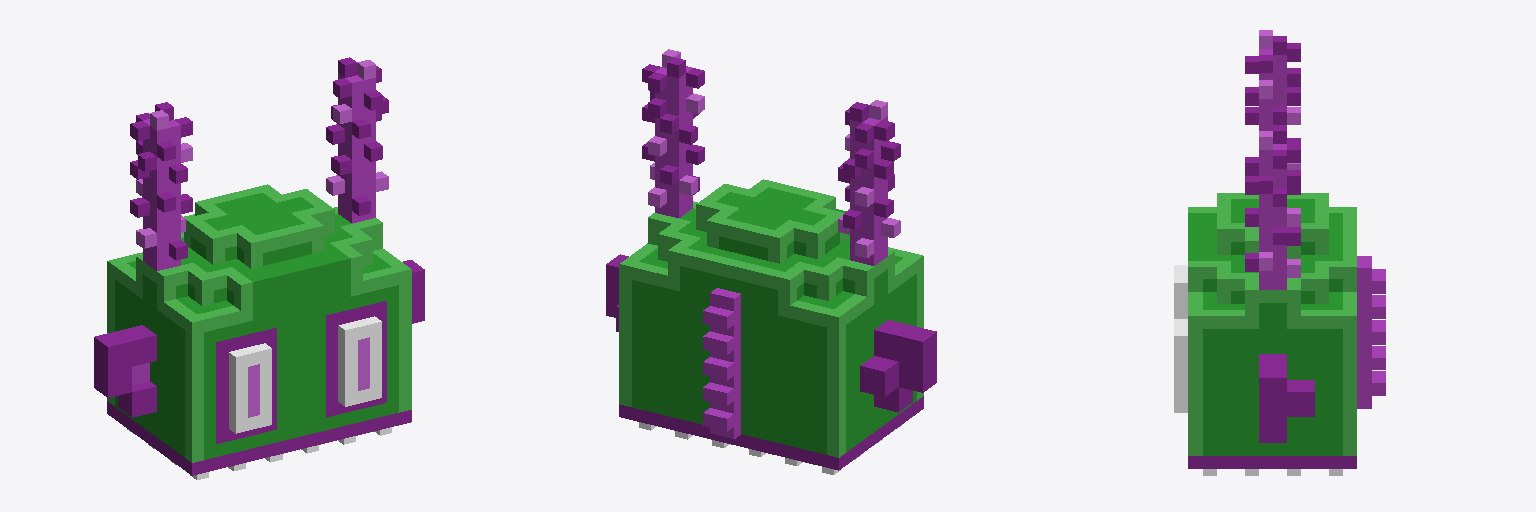
The picture shows the model from 3 angles: view 1: azimuth 30°, elevation 25°; view 2: azimuth 150°, elevation 25°; view 3: azimuth 270°, elevation 25°; orthographic projection.
Parts seen in each view (by area): view 1: object 1; view 2: object 1; view 3: object 1.
Boxes of the visible parts, <box> form: object 1: <box>94,57,424,479</box>; object 1: <box>606,49,936,474</box>; object 1: <box>1174,30,1385,475</box>.
Size of the model in its own units: 2.6 by 2.7 by 1.5.
1 materials, 1 textured.